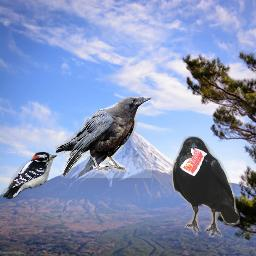Crow: (55, 96, 152, 178), (172, 136, 240, 237)
Woodpecker: (1, 152, 57, 199)
